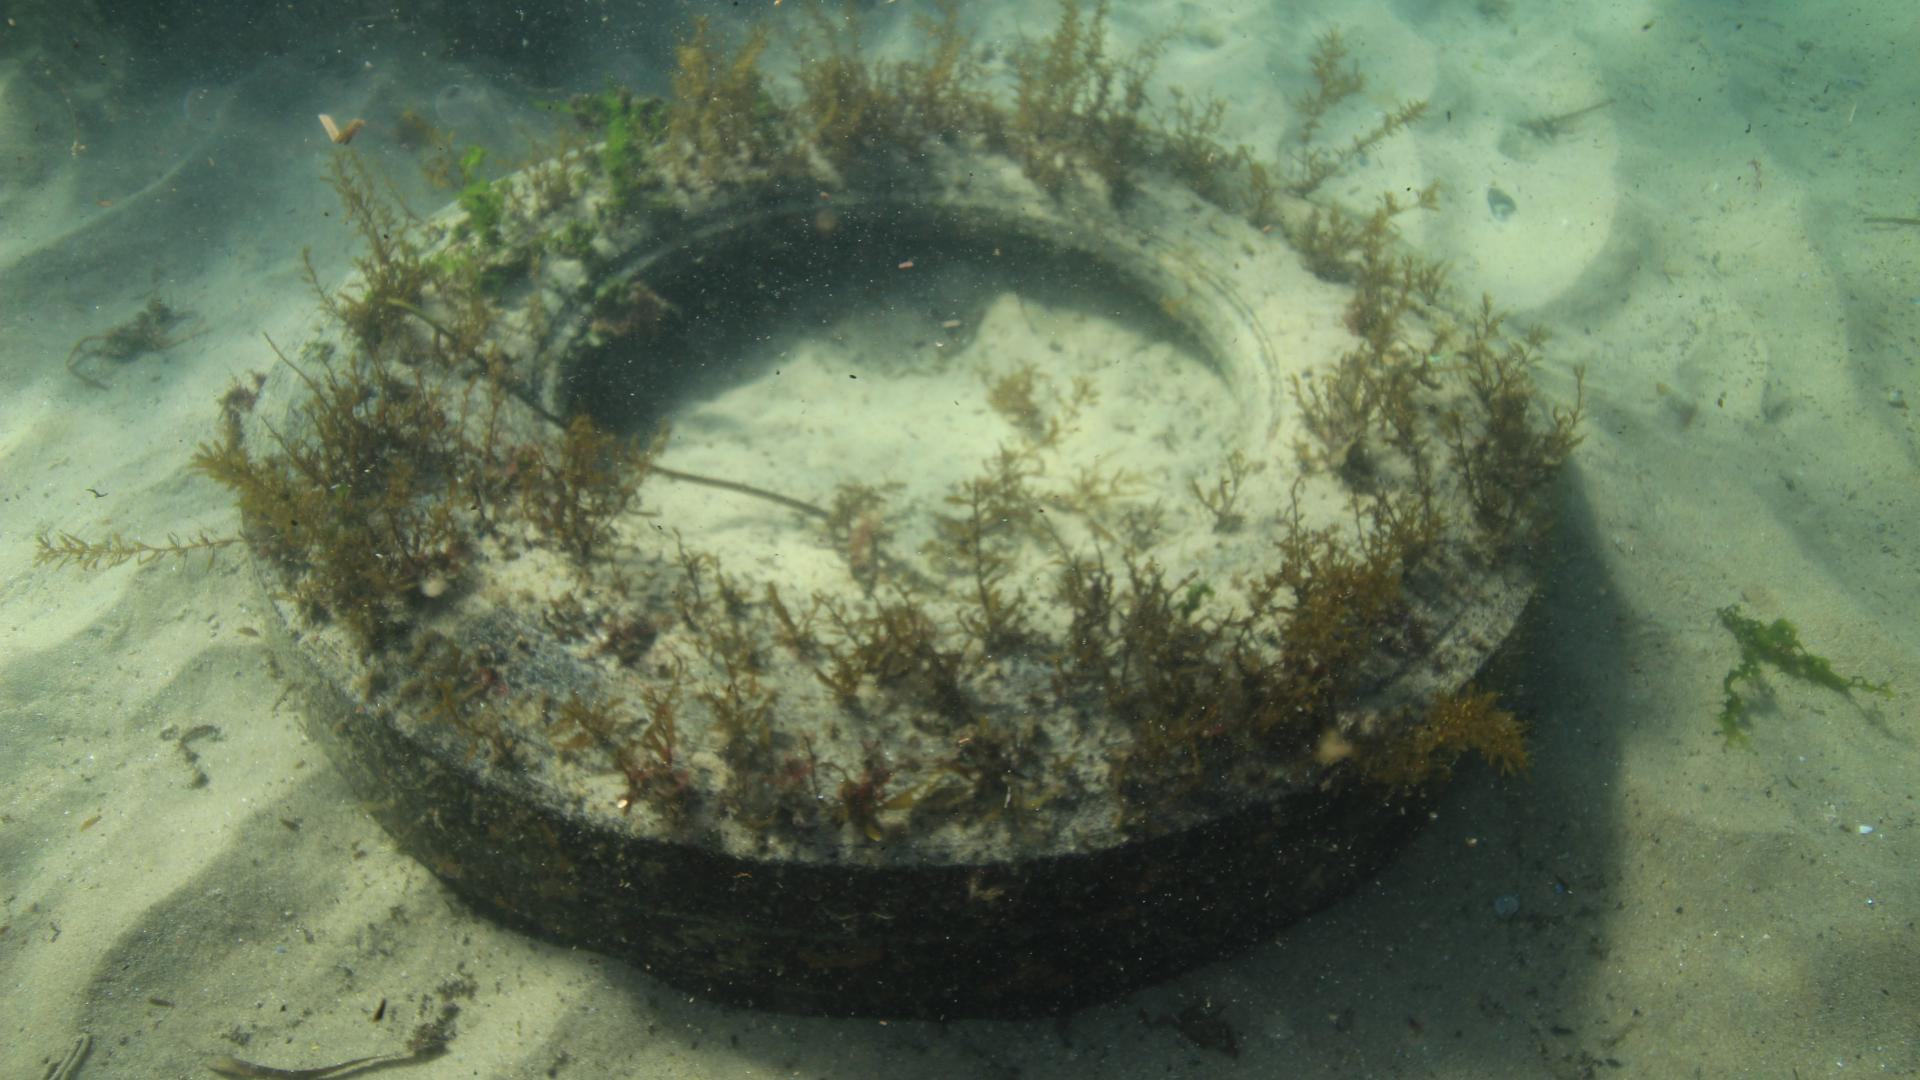tire: (239, 94, 1553, 1023)
